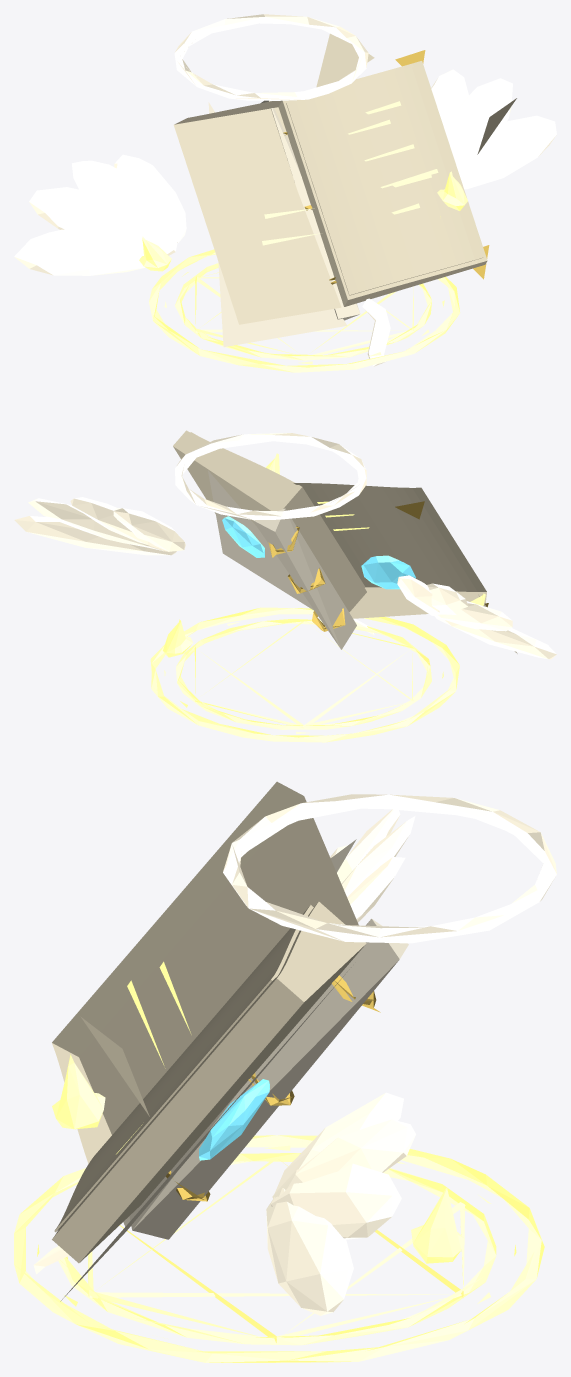
The model's file is tome_7.glb.
3 renders of one model, top to bottom at view 1: azimuth 30°, elevation 25°; view 2: azimuth 150°, elevation 25°; view 3: azimuth 270°, elevation 25°, orthographic. The views are drawn at different scales.
Visible parts, largest first — view 1: Page__022, CoverL__002, Book__060, Halo__068, Book__064, Book__061, CoverR__011, Circle__033, CoverL__001, Book__062, Book__065, Book__063 (+9 smaller); view 2: CoverL__002, CoverR__011, Circle__033, Halo__068, Book__026, Circle__034, CoverR__010, Book__064, Book__065, Book__067, Book__060, Book__061 (+7 smaller); view 3: CoverL__002, CoverR__011, Book__026, Halo__068, Circle__033, Page__022, Book__064, Circle__034, Book__065, Book__066, Book__067, Orbit__059 (+10 smaller).
Boxes of the visible parts, bbox=[...] form: Page__022: bbox=[286, 65, 483, 295]; CoverL__002: bbox=[173, 100, 341, 324]; Book__060: bbox=[14, 227, 177, 275]; Halo__068: bbox=[174, 14, 368, 100]; Book__064: bbox=[455, 115, 556, 189]; Book__061: bbox=[29, 187, 173, 246]; CoverR__011: bbox=[278, 61, 487, 306]; Circle__033: bbox=[149, 249, 459, 372]; CoverL__001: bbox=[208, 102, 347, 347]; Book__062: bbox=[72, 160, 180, 240]; Book__065: bbox=[449, 78, 512, 161]; Book__063: bbox=[114, 154, 186, 242]; CoverL__002: bbox=[293, 483, 486, 618]; CoverR__011: bbox=[173, 430, 366, 612]; Circle__033: bbox=[150, 607, 459, 742]; Halo__068: bbox=[175, 433, 366, 520]; Book__026: bbox=[252, 508, 356, 649]; Circle__034: bbox=[176, 619, 431, 729]; CoverR__010: bbox=[208, 470, 313, 610]; Book__064: bbox=[14, 516, 176, 555]; Book__065: bbox=[28, 498, 166, 551]; Book__067: bbox=[113, 508, 185, 551]; Book__060: bbox=[435, 617, 556, 659]; Book__061: bbox=[437, 601, 512, 631]; CoverL__002: bbox=[52, 781, 366, 1163]; CoverR__011: bbox=[52, 902, 366, 1263]; Book__026: bbox=[129, 918, 408, 1239]; Halo__068: bbox=[223, 794, 556, 943]; Circle__033: bbox=[14, 1135, 544, 1362]; Page__022: bbox=[54, 905, 313, 1232]; Book__064: bbox=[266, 1188, 353, 1315]; Circle__034: bbox=[58, 1153, 496, 1345]; Book__065: bbox=[270, 1163, 401, 1239]; Book__066: bbox=[272, 1119, 415, 1198]; Book__067: bbox=[274, 1092, 403, 1193]; Orbit__059: bbox=[411, 1187, 464, 1263].
Size of the model in its own units: 0.473 by 0.1984 by 0.239.
